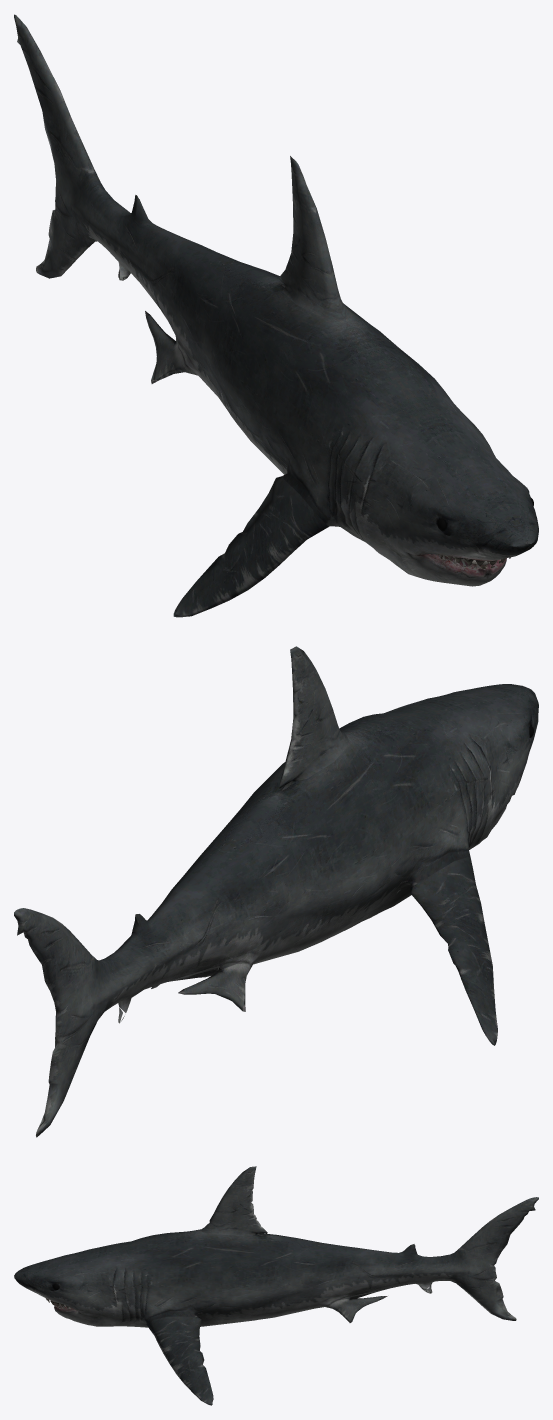
Rendered from crysis_shark.glb.
The picture shows the model from 3 angles, top to bottom: view 1: azimuth 30°, elevation 25°; view 2: azimuth 150°, elevation 25°; view 3: azimuth 270°, elevation 25°; orthographic projection. The views are drawn at different scales.
Parts seen in each view (by area): view 1: Object_3; view 2: Object_3; view 3: Object_3.
Part boxes in pixels (left/top/right/bottom): Object_3: left=14, top=14, right=538, bottom=617; Object_3: left=14, top=646, right=538, bottom=1137; Object_3: left=14, top=1166, right=538, bottom=1405.
Bounding box in the file's own units: 4.45 × 5.16 × 12.32.
3 materials, 3 textured.
